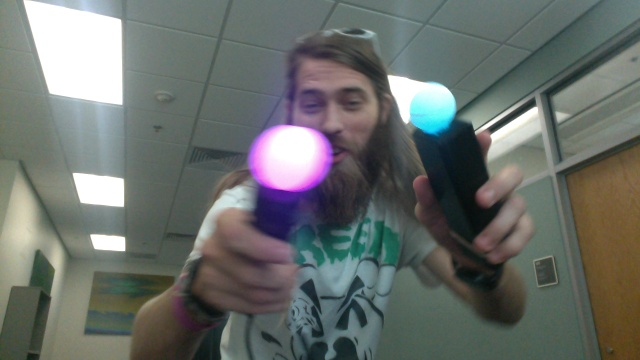wand: (251, 127, 331, 192), (409, 85, 456, 135)
